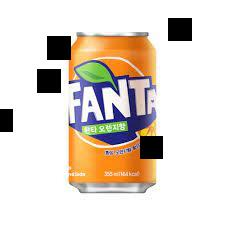fanta_orange: (60, 27, 164, 197)
